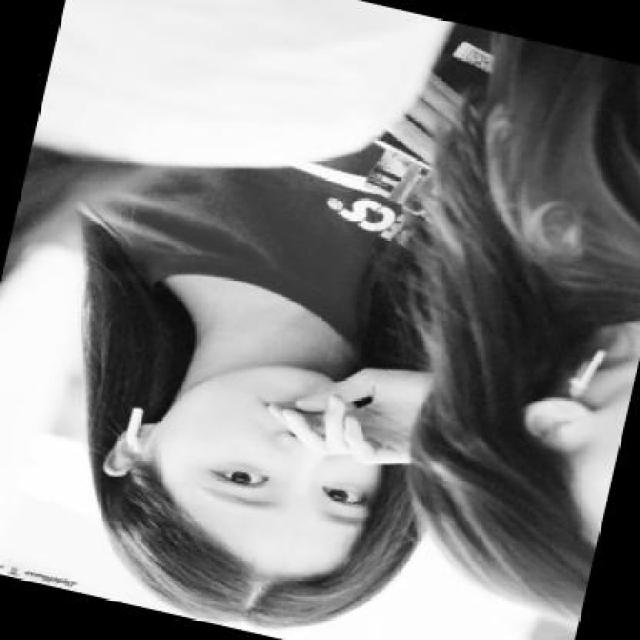earphone: (122, 388, 161, 485)
